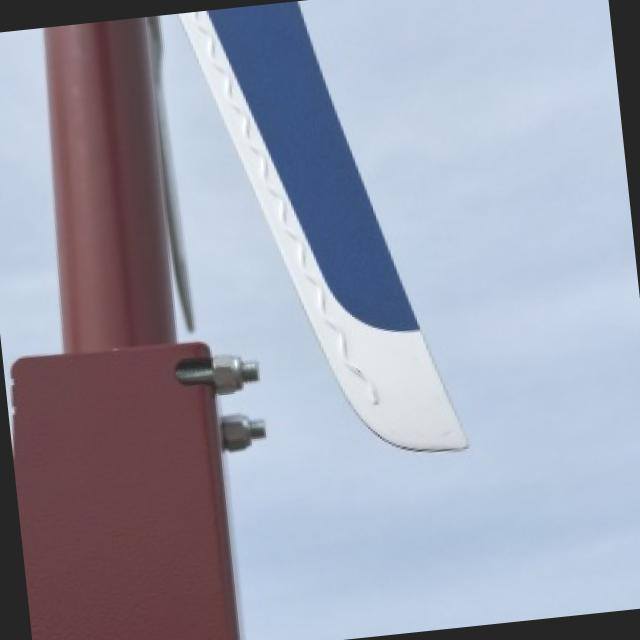healthy: (12, 343, 231, 640), (55, 169, 165, 346)
